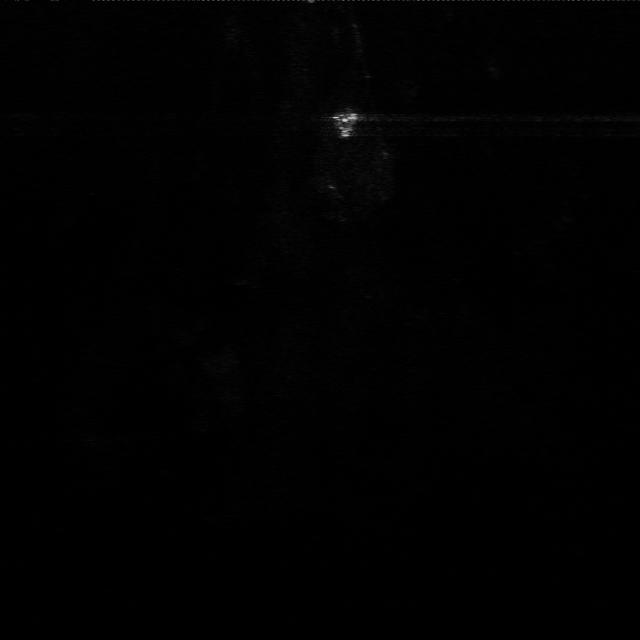rov: (322, 110, 366, 140)
